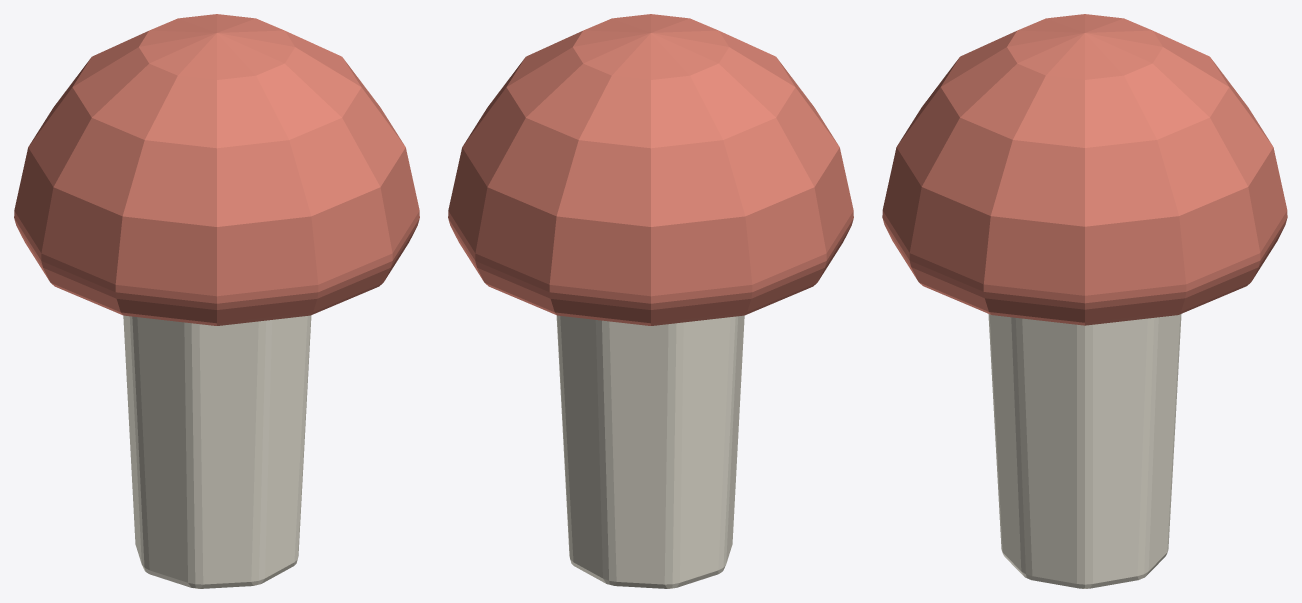
Rendered from mushroom.glb.
3 renders of one model, left to right at view 1: azimuth 30°, elevation 25°; view 2: azimuth 150°, elevation 25°; view 3: azimuth 270°, elevation 25°, orthographic.
Visible parts, largest first — view 1: Mushroom; view 2: Mushroom; view 3: Mushroom.
Part boxes in pixels (x1=…): Mushroom: x1=14, y1=14, x2=419, y2=588; Mushroom: x1=448, y1=14, x2=853, y2=588; Mushroom: x1=882, y1=14, x2=1287, y2=588.
Size of the model in its own units: 0.2382 by 0.34 by 0.2382.
